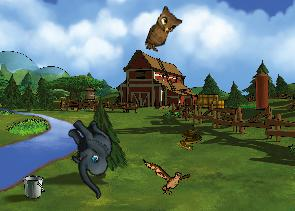eagle: (143, 159, 190, 195)
elephant: (46, 111, 135, 199)
owl: (143, 4, 185, 57)
